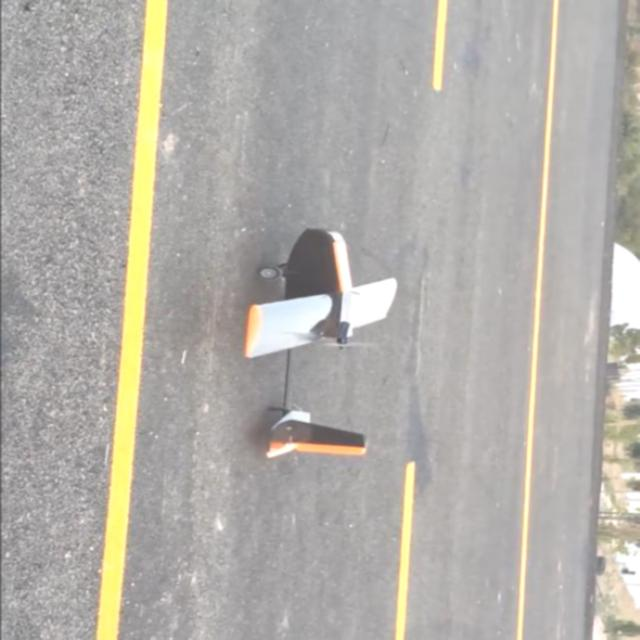plane: (242, 226, 399, 460)
